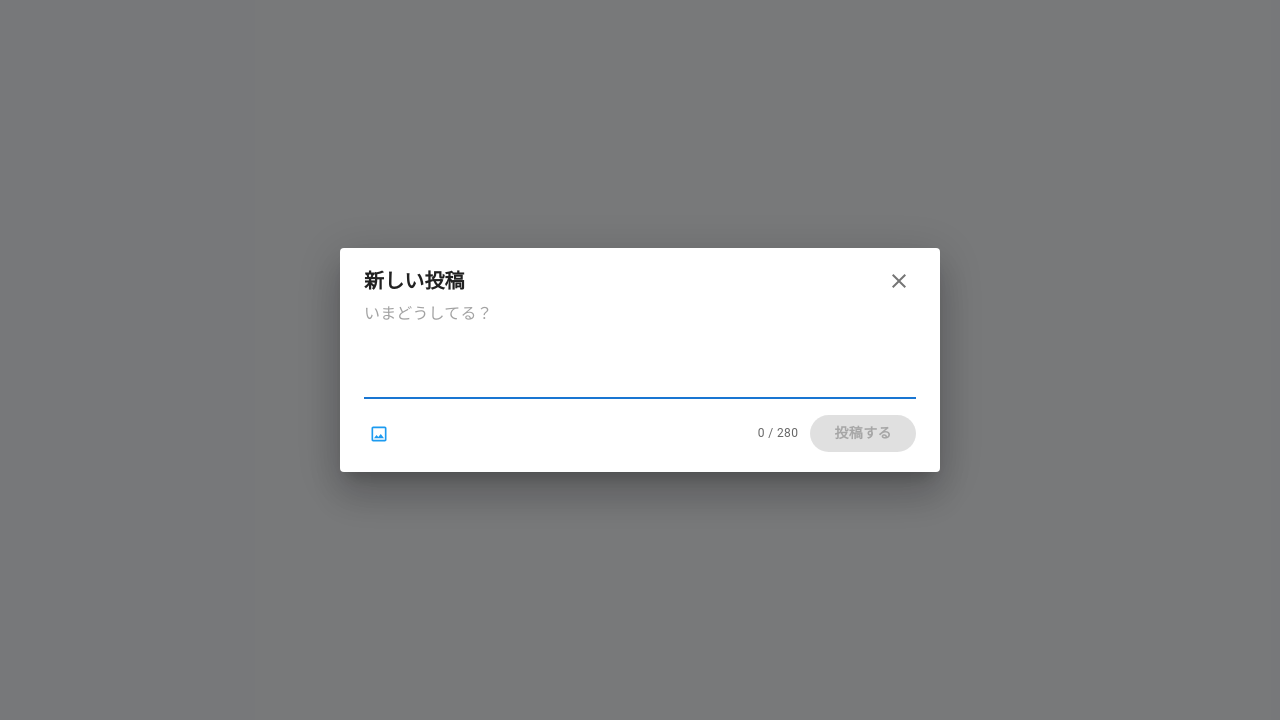
Test: PostModal › 本文 1 文字以上でサブミットボタンが enabled
Type "a" into the text box with placeholder "いまどうしてる？" at (640, 348), box top-left (364, 302), bottom-right (916, 394)
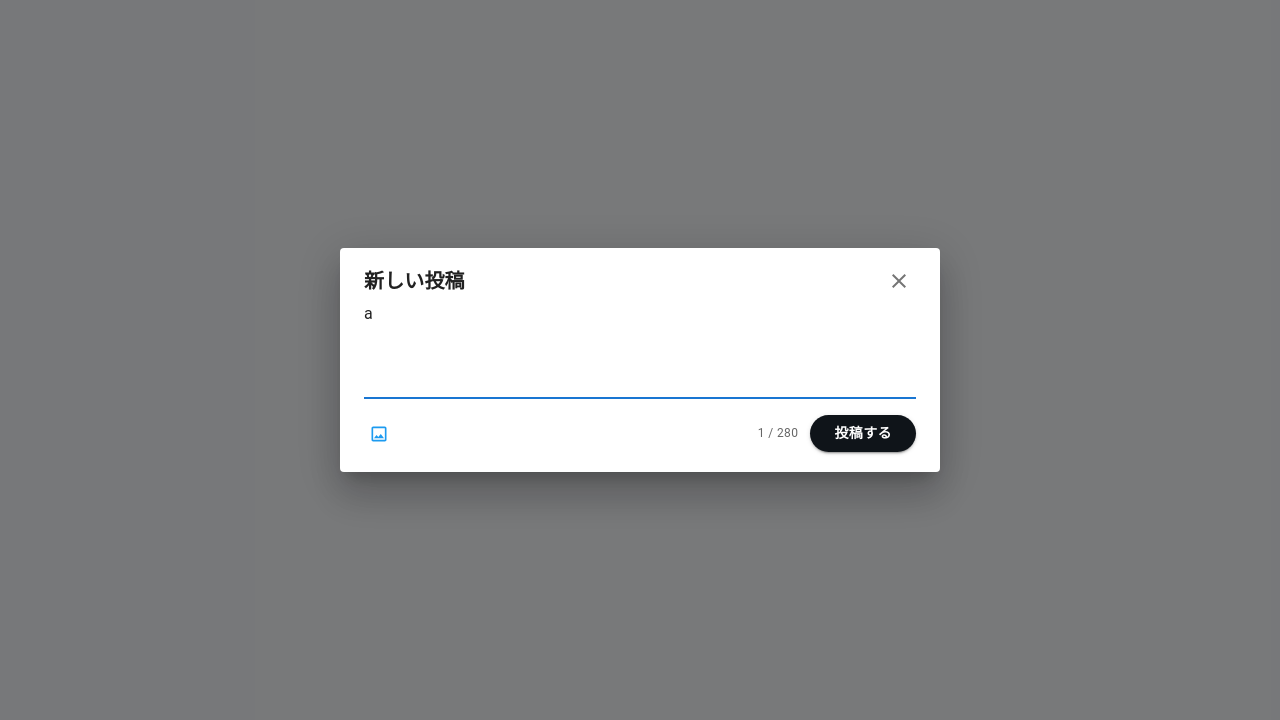
Expected: the button "投稿する" is enabled, top-left (810, 415), bottom-right (916, 452)
